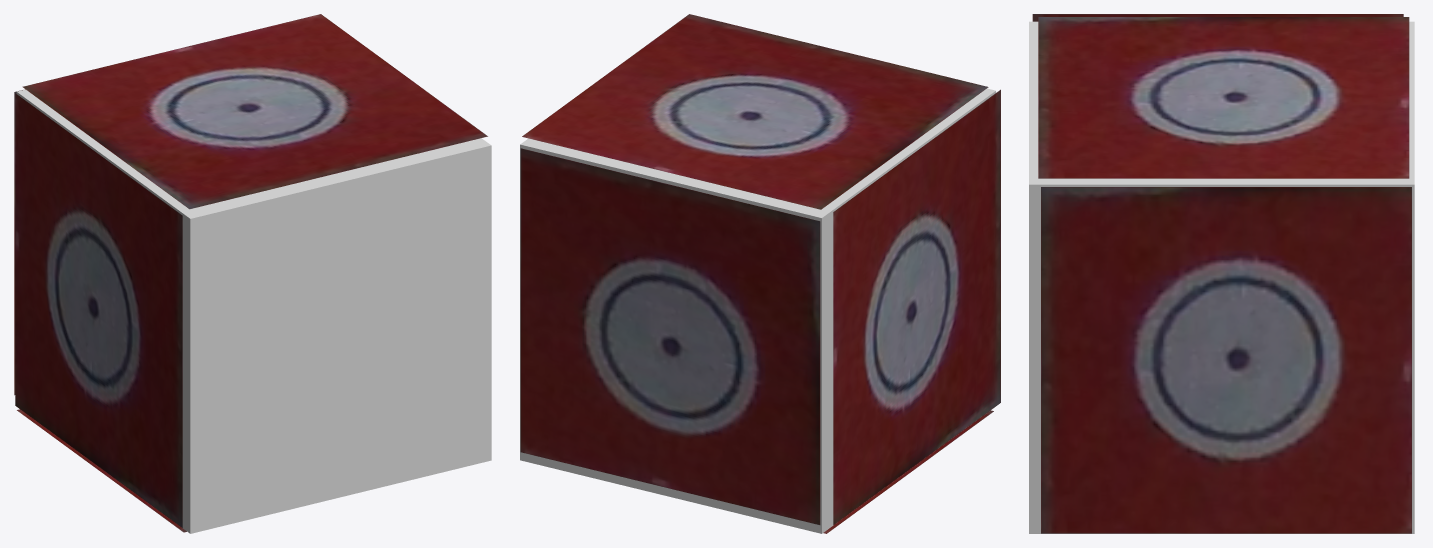
The picture shows the model from 3 angles, left to right: view 1: azimuth 30°, elevation 25°; view 2: azimuth 150°, elevation 25°; view 3: azimuth 270°, elevation 25°; orthographic projection. The views are drawn at different scales.
Visible parts, largest first — view 1: Link28, R1.002, R1.004, R1.005, R1.001; view 2: R1.001, R1.002, R1.004, Link28, R1.005; view 3: R1.003, R1.004, Link28, R1.002.
Boxes of the visible parts, <box> form: Link28: <box>16,89,491,533</box>; R1.002: <box>15,93,182,527</box>; R1.004: <box>22,14,487,209</box>; R1.005: <box>17,409,186,532</box>; R1.001: <box>14,89,25,395</box>; R1.001: <box>520,148,820,524</box>; R1.002: <box>833,89,1000,524</box>; R1.004: <box>522,14,988,209</box>; Link28: <box>520,88,995,533</box>; R1.005: <box>823,410,993,533</box>; R1.003: <box>1041,187,1411,533</box>; R1.004: <box>1038,17,1409,178</box>; Link28: <box>1029,21,1414,533</box>; R1.002: <box>1032,14,1403,21</box>.
Size of the model in its own units: 0.3585 by 0.3539 by 0.3577.
Materials: 1 (1 with a texture image).
